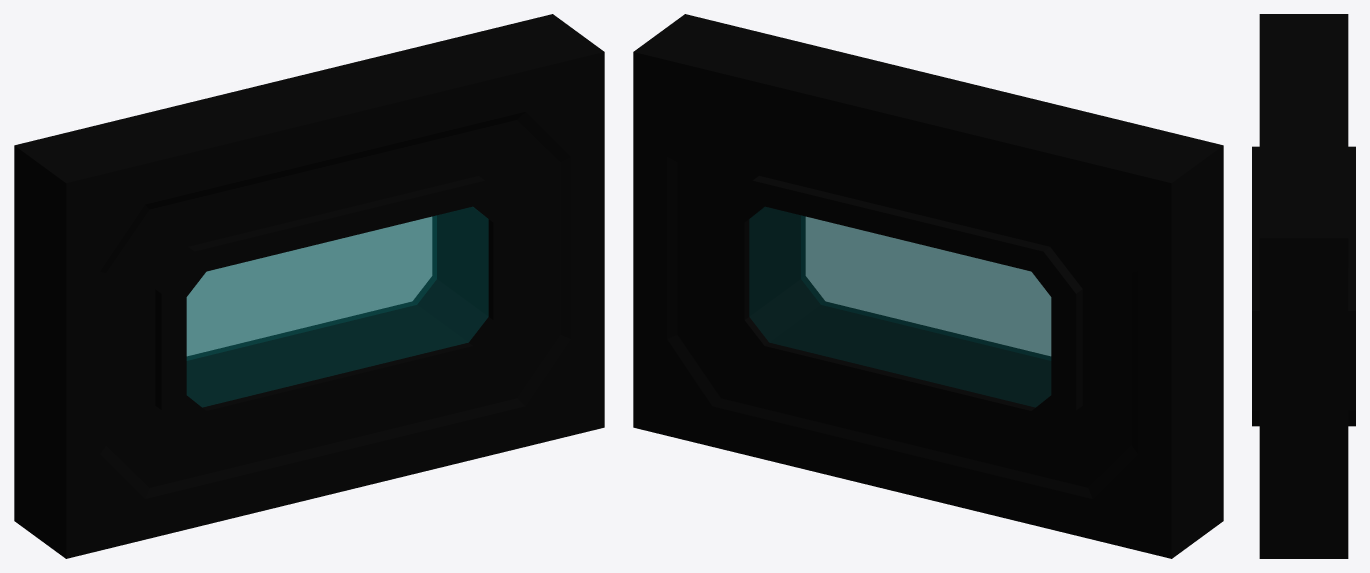
The model's file is obj_vehicle_backwindow.fbx.
3 views of the same model, side by side, from view 1: azimuth 30°, elevation 25°; view 2: azimuth 150°, elevation 25°; view 3: azimuth 270°, elevation 25° (orthographic). The views are drawn at different scales.
Visible parts, largest first — view 1: Window; view 2: Window; view 3: Window.
Boxes of the visible parts, x1,y1,x2,y2 form: Window: (14, 14, 604, 558); Window: (633, 14, 1223, 558); Window: (1252, 14, 1355, 558).
Size of the model in its own units: 6 by 4 by 1.18.
